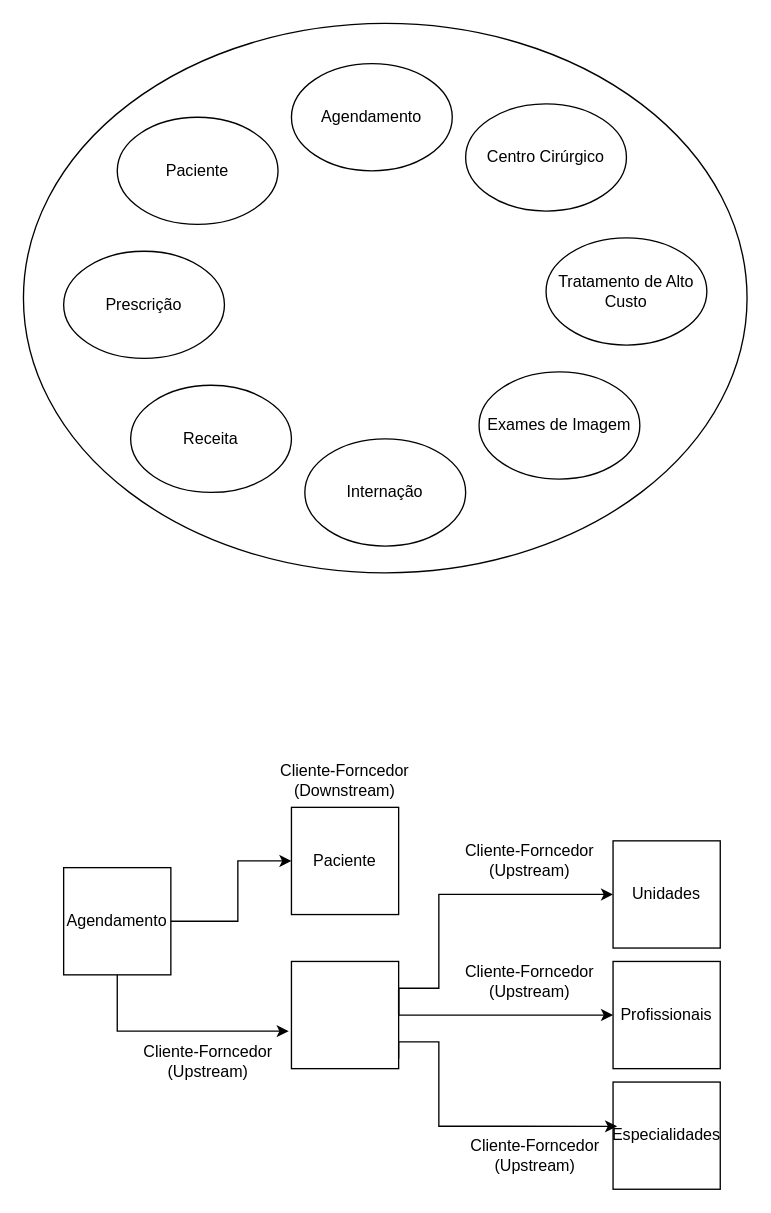
Some shapes in this 771 by 1213 pixel diagram are drawn without their labels. Here are the shapes that lost their labels. From the top down, the box of each, then its label:
(22, 22, 747, 573): HOSPITAL
(290, 960, 399, 1069): Agenda
